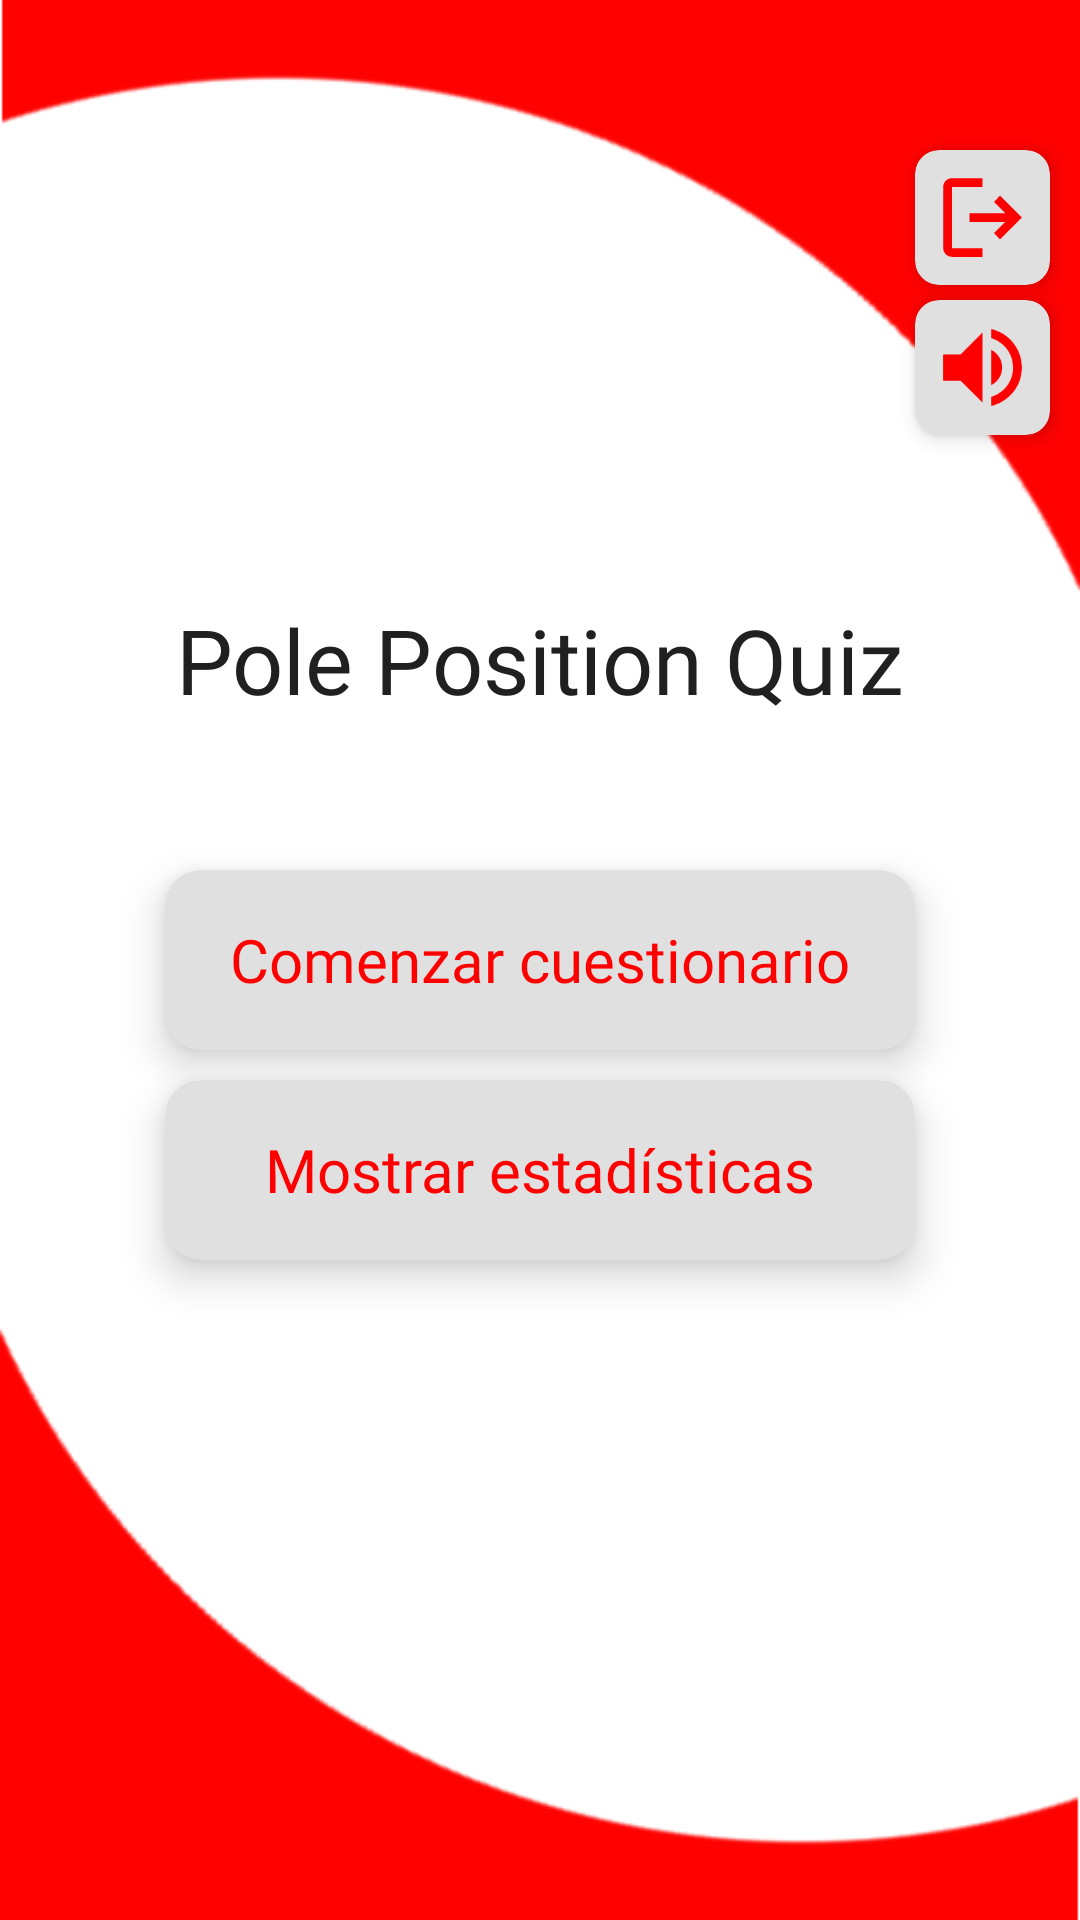

Screen size 1080 x 1920. Icon name, then its box in pixels as (x1, y1, x2, y2):
volume: (915, 300, 1050, 435)
